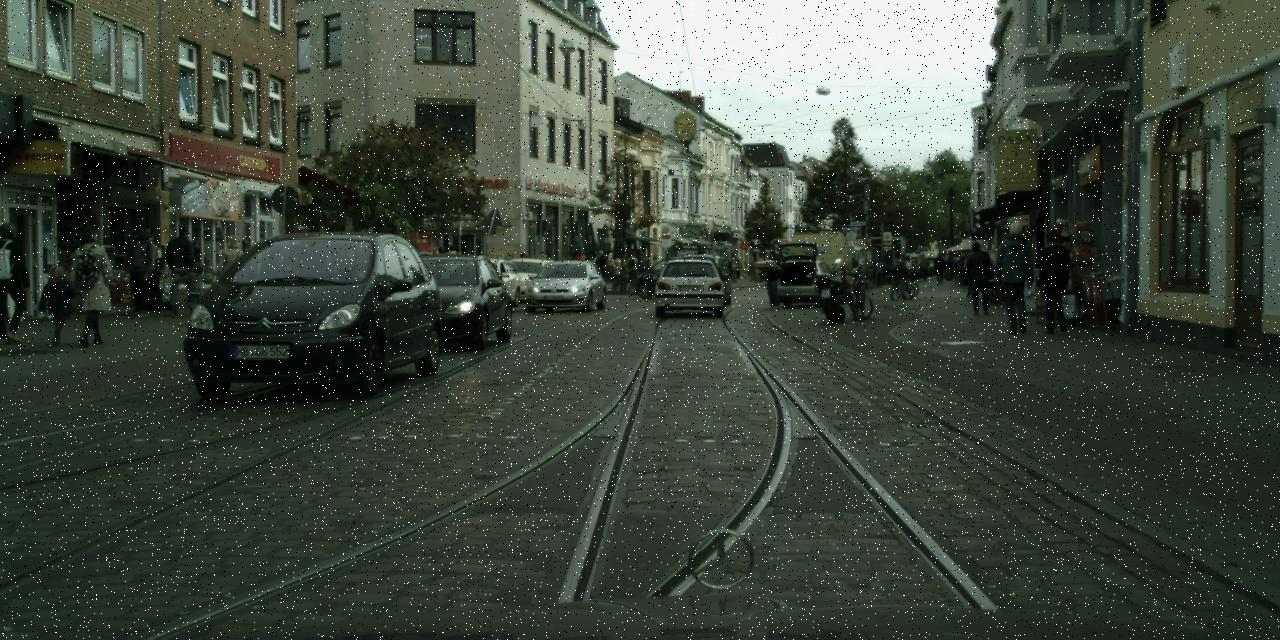ped: (66, 226, 115, 345), (993, 220, 1039, 334), (1034, 229, 1076, 332), (0, 220, 34, 342), (165, 224, 202, 315), (124, 226, 160, 316), (214, 234, 248, 316), (41, 264, 74, 347), (963, 242, 993, 314), (184, 260, 209, 320), (759, 249, 784, 309), (624, 249, 649, 289), (576, 248, 608, 278), (891, 252, 910, 300), (443, 244, 461, 288), (962, 252, 980, 296), (433, 246, 449, 286), (516, 251, 530, 285), (612, 254, 624, 286), (956, 256, 968, 286), (933, 254, 945, 283), (944, 257, 953, 280), (920, 258, 929, 280), (737, 254, 744, 279), (724, 253, 730, 273)
